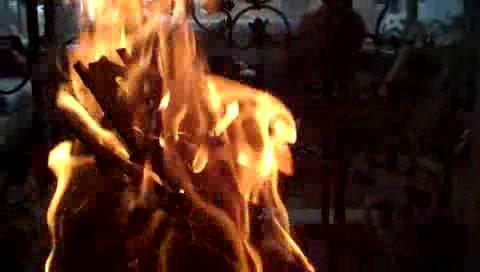fire: (44, 6, 295, 270)
